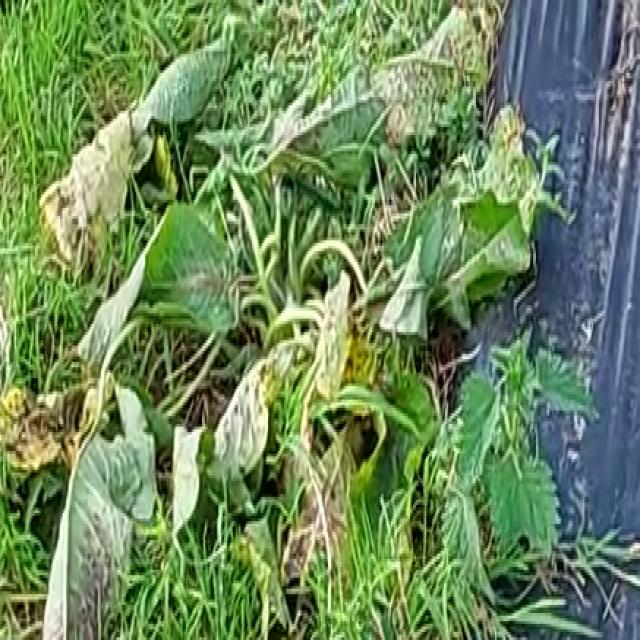organic waste: (38, 43, 608, 640)
